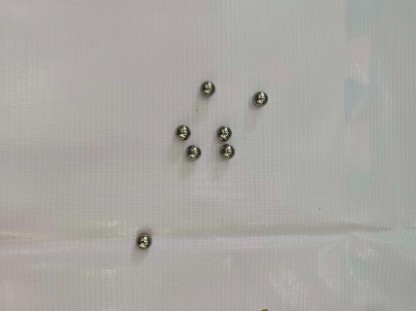ironball: (174, 123, 189, 139), (215, 125, 230, 140), (185, 145, 199, 160), (219, 144, 233, 158), (252, 90, 266, 104), (136, 233, 149, 248), (201, 80, 214, 95)
